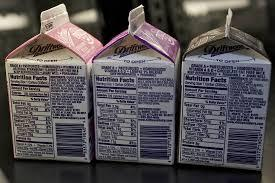cardboard: (180, 8, 271, 172), (6, 4, 96, 164), (93, 6, 178, 165)
